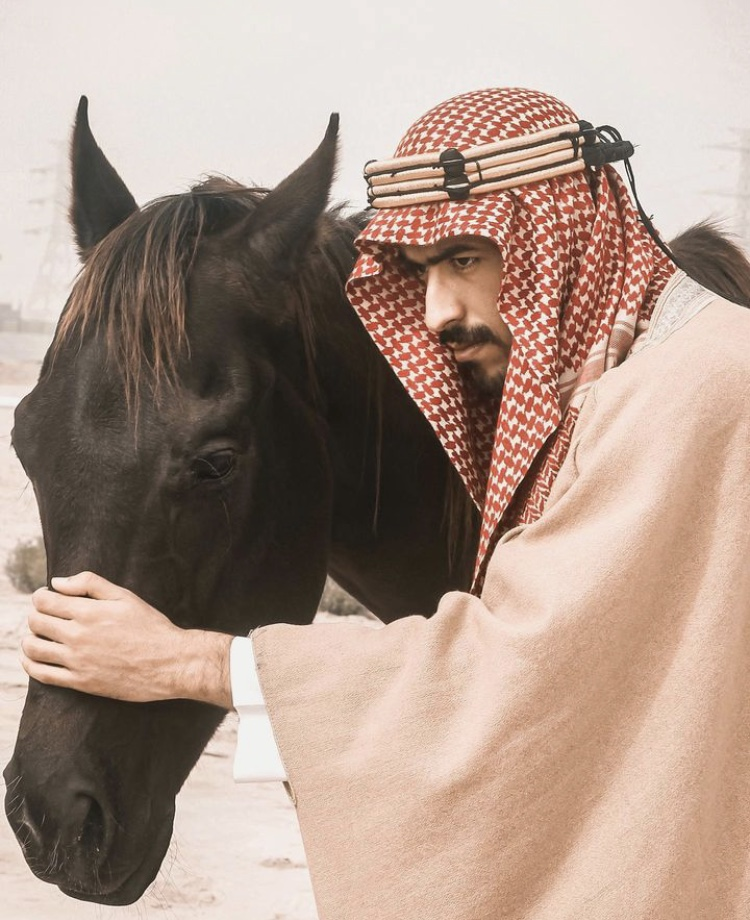Saudi_Founding_Day: (22, 85, 750, 920)
